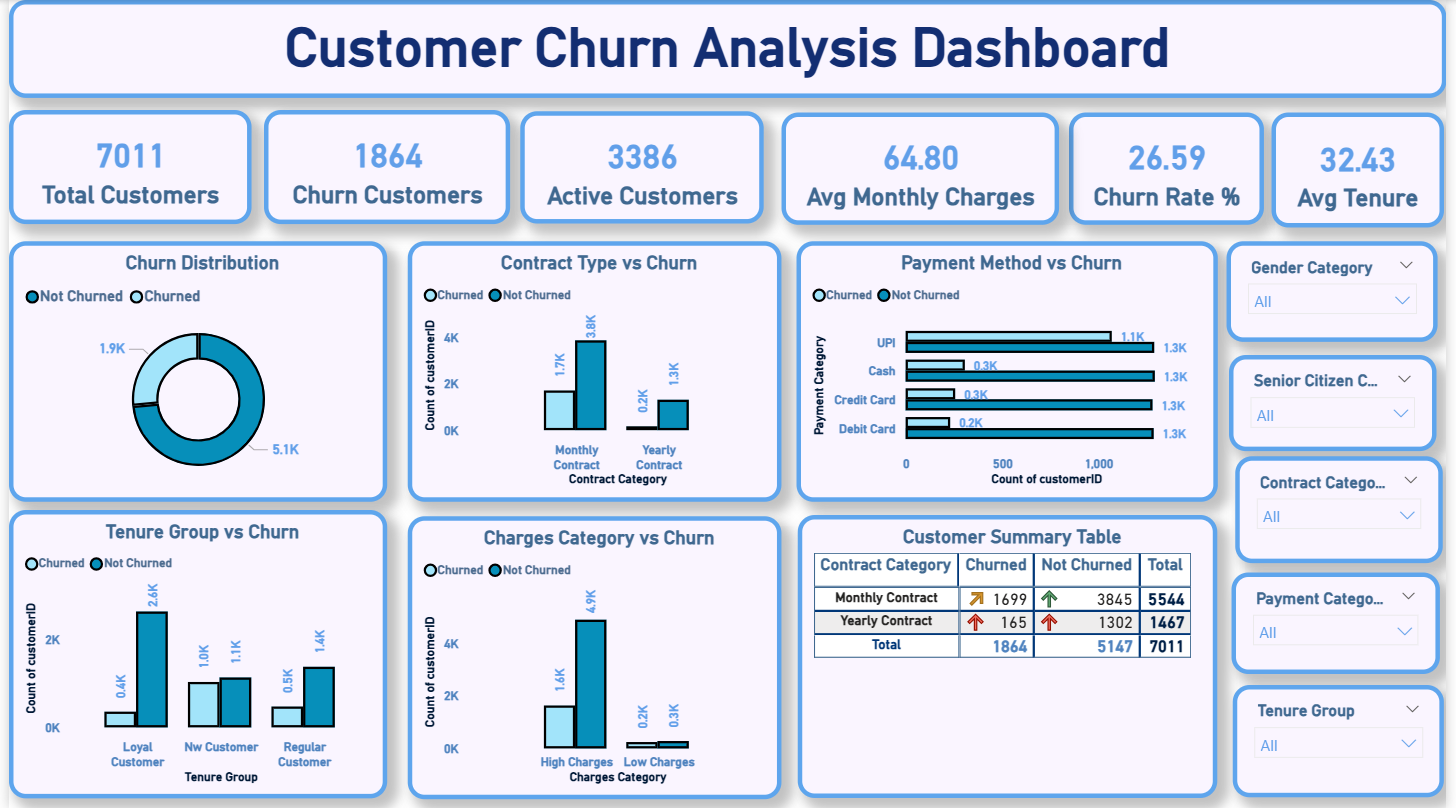

What the dashboard file says about the page in this screenshot:
{"tool":"powerbi","page":{"name":"Page 1","canvas":[1280,720],"ordinal":0},"visuals":[{"type":"textbox","box":[0,0,1280,86.9],"z":0},{"type":"card","fields":{"Values":["Customer_Churn.Total Customers"]},"box":[0,97.7,216,101.3],"z":1000},{"type":"card","fields":{"Values":["Customer_Churn.Churn Customers"]},"box":[226.8,97.7,219.6,101.3],"z":2000},{"type":"card","fields":{"Values":["Customer_Churn.Active Customers"]},"box":[454.8,98.9,217.2,100.1],"z":3000},{"type":"card","fields":{"Values":["Customer_Churn.Churn Rate %"]},"box":[943.4,100.1,173.7,100.1],"z":4000},{"type":"card","fields":{"Values":["Customer_Churn.Avg Monthly Charges"]},"box":[687.7,100.1,247.3,100.1],"z":5000},{"type":"card","fields":{"Values":["Customer_Churn.Avg Tenure"]},"box":[1124.4,100.1,153.2,102.5],"z":6000},{"type":"donutChart","title":"Churn Distribution","fields":{"Category":["Customer_Churn.Churn Status"],"Y":["CountNonNull(Customer_Churn.customerID)"]},"box":[0,214.7,336.6,231.6],"z":7000},{"type":"clusteredColumnChart","title":"Contract Type vs Churn","fields":{"Category":["Customer_Churn.Contract Category"],"Y":["CountNonNull(Customer_Churn.customerID)"],"Series":["Customer_Churn.Churn Status"]},"box":[354.7,214.7,333,231.6],"z":8000},{"type":"clusteredBarChart","title":"Payment Method vs Churn","fields":{"Y":["CountNonNull(Customer_Churn.customerID)"],"Category":["Customer_Churn.Payment Category"],"Series":["Customer_Churn.Churn Status"]},"box":[700.9,214.7,375.2,231.6],"z":9000},{"type":"clusteredColumnChart","title":"Tenure Group vs Churn","fields":{"Category":["Customer_Churn.Tenure Group"],"Y":["CountNonNull(Customer_Churn.customerID)"],"Series":["Customer_Churn.Churn Status"]},"box":[0,453.6,336.6,257],"z":10000},{"type":"clusteredColumnChart","title":"Charges Category vs Churn","fields":{"Category":["Customer_Churn.Charges Category"],"Y":["CountNonNull(Customer_Churn.customerID)"],"Series":["Customer_Churn.Churn Status"]},"box":[354.7,459.7,333,252.1],"z":11000},{"type":"pivotTable","title":"Customer Summary Table","fields":{"Rows":["Customer_Churn.Contract Category"],"Columns":["Customer_Churn.Churn Status"],"Values":["CountNonNull(Customer_Churn.customerID)"]},"box":[702.1,458.4,374,252.1],"z":12000},{"type":"slicer","fields":{"Values":["Customer_Churn.Gender Category"]},"box":[1084.6,214.7,188.2,89.3],"z":13000},{"type":"slicer","fields":{"Values":["Customer_Churn.Senior Citizen Category "]},"box":[1087,316.1,184.6,85.7],"z":14000},{"type":"slicer","fields":{"Values":["Customer_Churn.Contract Category"]},"box":[1091.8,406.6,184.6,95.3],"z":15000},{"type":"slicer","fields":{"Values":["Customer_Churn.Payment Category"]},"box":[1088.2,510.3,185.8,90.5],"z":16000},{"type":"slicer","fields":{"Values":["Customer_Churn.Tenure Group"]},"box":[1089.4,610.5,188.2,100.1],"z":17000}]}

Visuals, with their boxes in screenshot pixels (x1, y1, x2, y2), scaled from the page's 1280x720 canvas onto the 1456x808 screenshot:
textbox: locate(0, 0, 1455, 98)
card - Customer_Churn.Total Customers: locate(0, 110, 246, 223)
card - Customer_Churn.Churn Customers: locate(258, 110, 508, 223)
card - Customer_Churn.Active Customers: locate(517, 111, 764, 223)
card - Customer_Churn.Churn Rate %: locate(1073, 112, 1271, 225)
card - Customer_Churn.Avg Monthly Charges: locate(782, 112, 1064, 225)
card - Customer_Churn.Avg Tenure: locate(1279, 112, 1453, 227)
"Churn Distribution" donutChart: locate(0, 241, 383, 501)
"Contract Type vs Churn" clusteredColumnChart: locate(403, 241, 782, 501)
"Payment Method vs Churn" clusteredBarChart: locate(797, 241, 1224, 501)
"Tenure Group vs Churn" clusteredColumnChart: locate(0, 509, 383, 797)
"Charges Category vs Churn" clusteredColumnChart: locate(403, 516, 782, 799)
"Customer Summary Table" pivotTable: locate(799, 514, 1224, 797)
slicer - Customer_Churn.Gender Category: locate(1234, 241, 1448, 341)
slicer - Customer_Churn.Senior Citizen Category : locate(1236, 355, 1446, 451)
slicer - Customer_Churn.Contract Category: locate(1242, 456, 1452, 563)
slicer - Customer_Churn.Payment Category: locate(1238, 573, 1449, 674)
slicer - Customer_Churn.Tenure Group: locate(1239, 685, 1453, 797)
